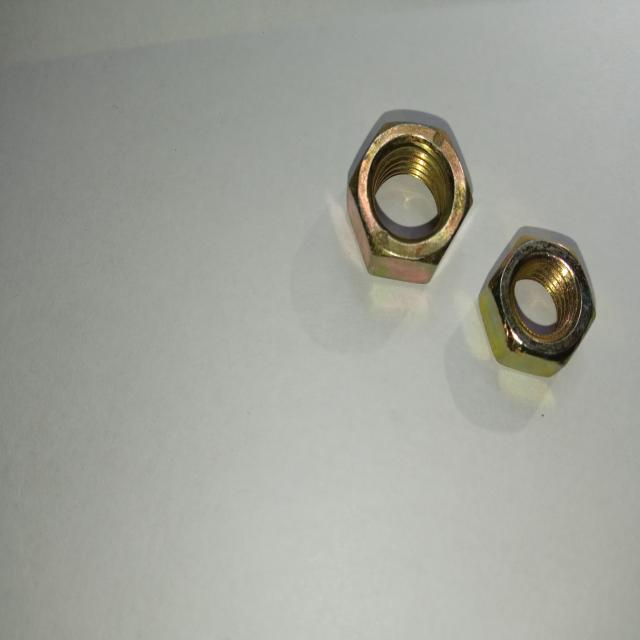m10: (348, 120, 466, 274)
m8: (484, 238, 598, 376)
